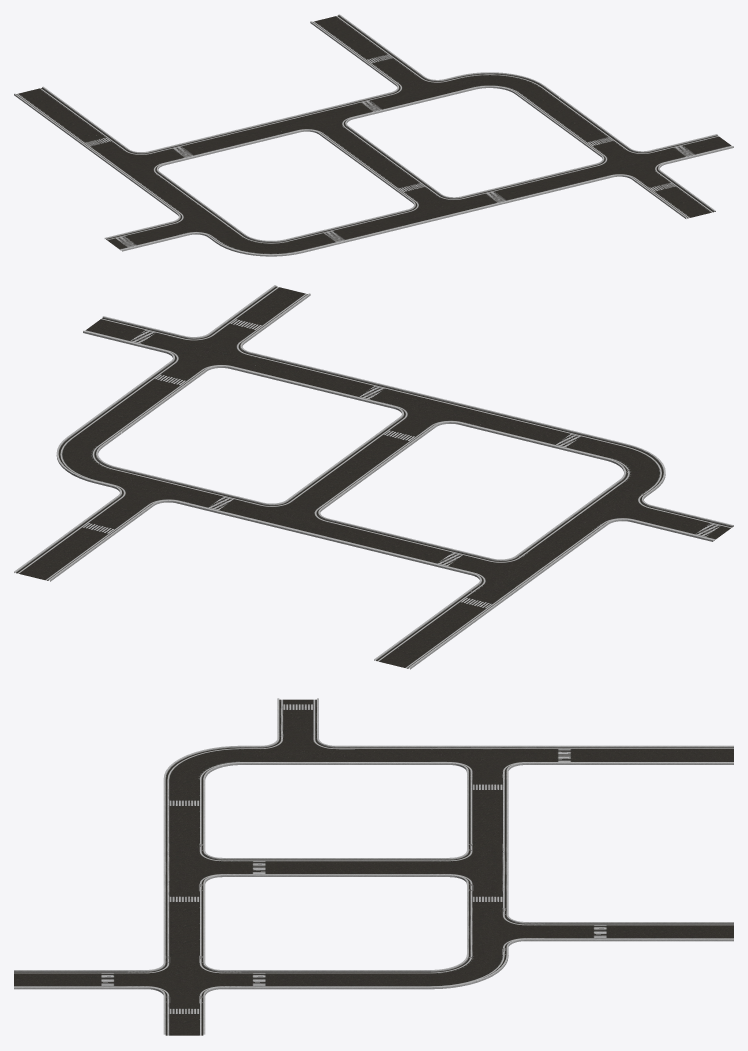
The model's file is SM_Road.fbx.
3 views of the same model, one above another, from view 1: azimuth 30°, elevation 25°; view 2: azimuth 150°, elevation 25°; view 3: azimuth 270°, elevation 25° (orthographic). The views are drawn at different scales.
Parts seen in each view (by area): view 1: Object_73.001; view 2: Object_73.001; view 3: Object_73.001.
Part boxes in pixels (x1,y1,x2,y2): Object_73.001: (14, 14, 733, 256); Object_73.001: (14, 285, 733, 669); Object_73.001: (14, 698, 733, 1035).
Bounding box in the file's own units: 42 × 0.1 × 38.
Materials: 1 (1 with a texture image).
